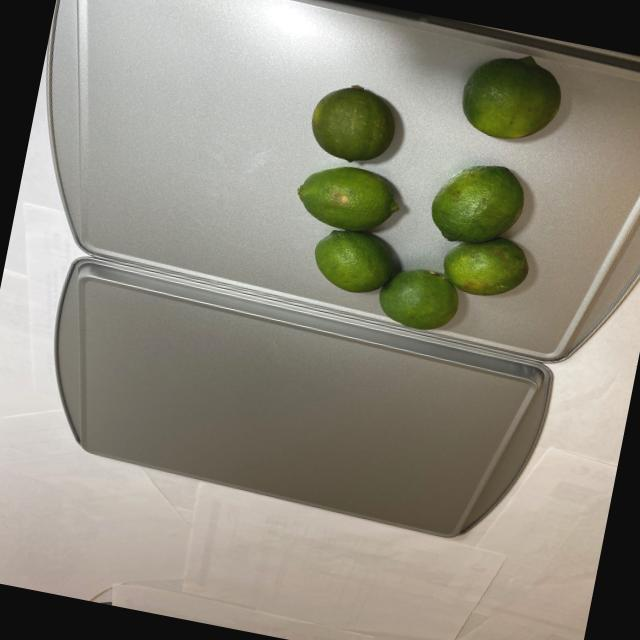lemon: (286, 16, 579, 346)
